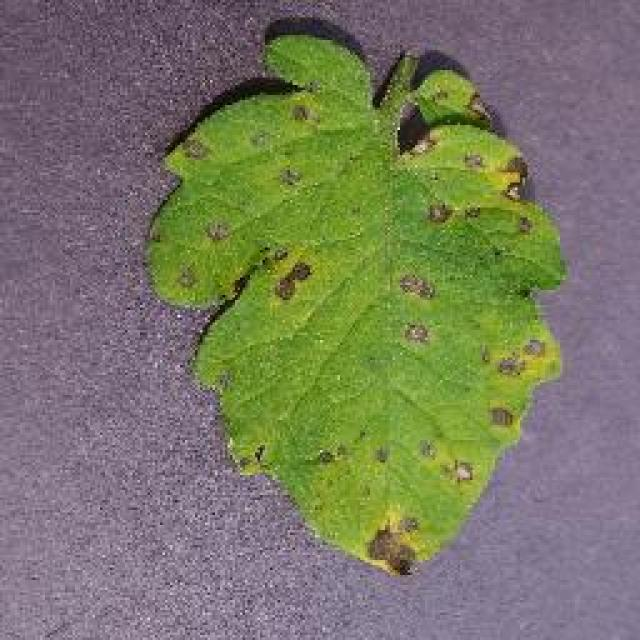Tomato___Septoria_leaf_spot: (150, 35, 562, 570)
